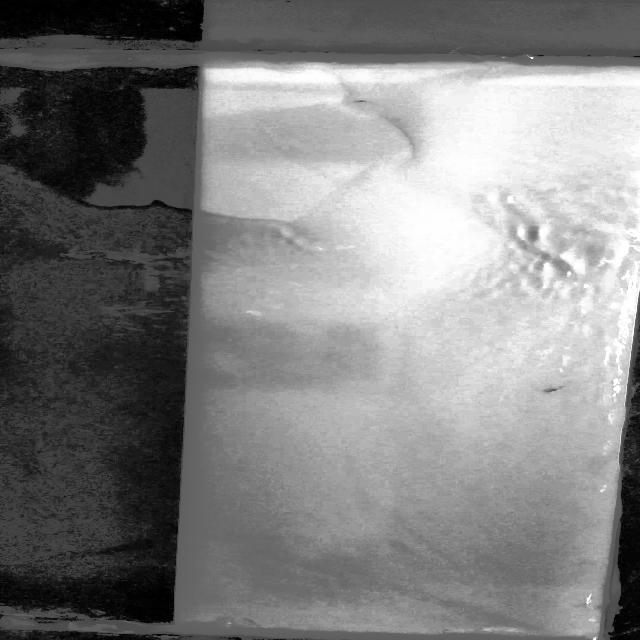shrimp: (231, 612, 271, 628), (350, 91, 379, 108), (541, 384, 572, 396)
